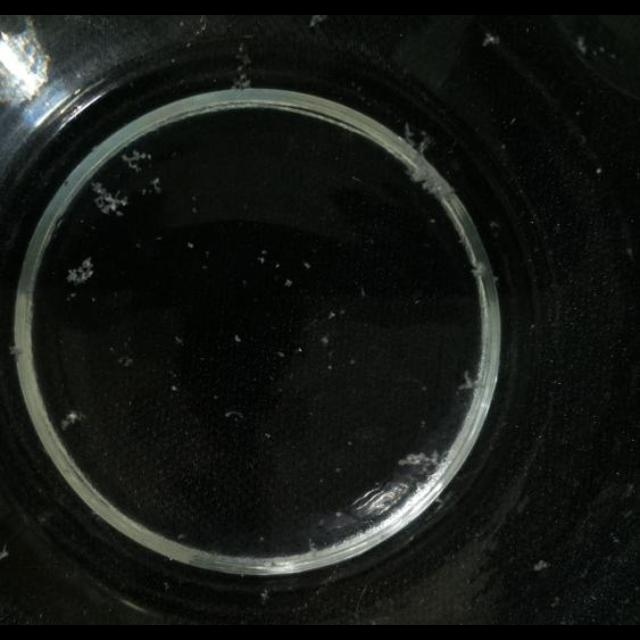Fibre: (91, 181, 129, 215), (396, 451, 436, 471), (67, 258, 95, 286), (121, 148, 152, 172), (60, 411, 82, 431), (457, 370, 477, 390), (146, 178, 162, 195)
